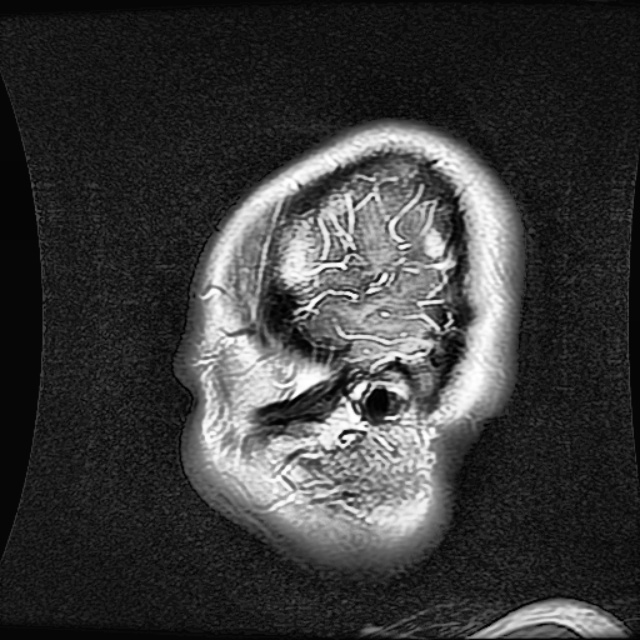Meningioma: (423, 225, 443, 257)
